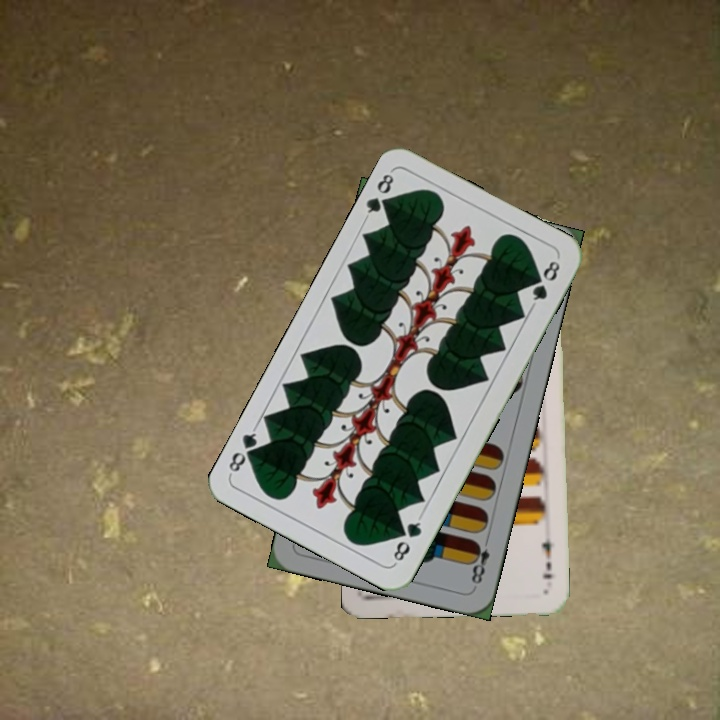E7: (537, 530, 555, 581)
E8: (466, 532, 493, 590)
G8: (360, 167, 398, 222), (389, 512, 424, 567)
